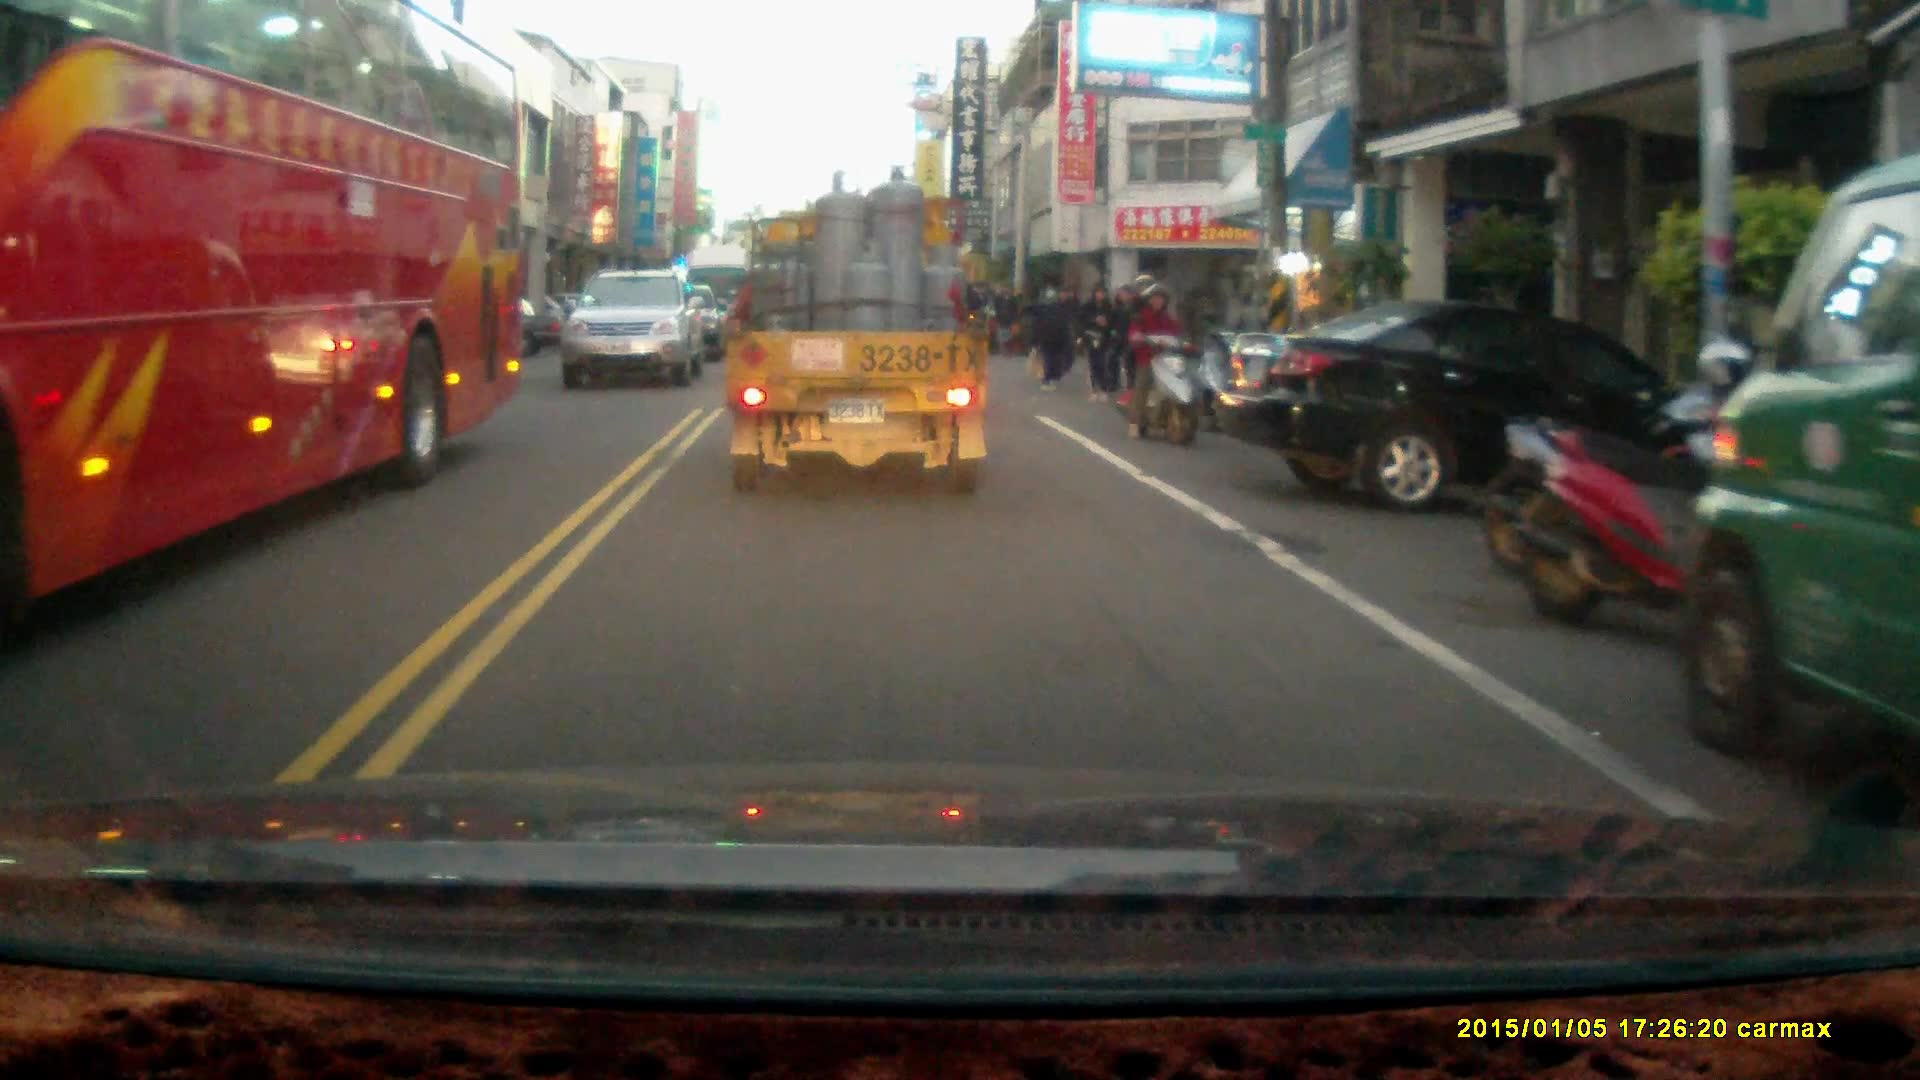pedestrian: (1030, 279, 1072, 390), (1081, 283, 1120, 405), (994, 281, 1020, 356)
rider: (1121, 272, 1197, 445)
vehicle: (1, 7, 533, 623), (1681, 153, 1920, 753), (1207, 302, 1748, 509), (722, 163, 996, 499), (560, 269, 707, 392)
